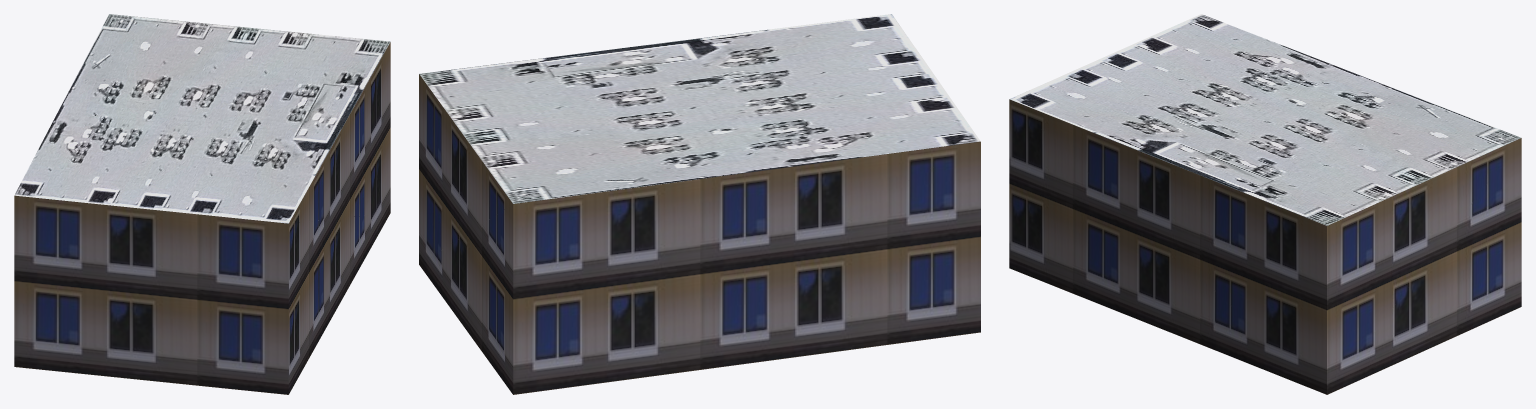
File: ResTex__4108.fbx
3 renders of one model, left to right at view 1: azimuth 30°, elevation 25°; view 2: azimuth 150°, elevation 25°; view 3: azimuth 270°, elevation 25°, orthographic. The views are drawn at different scales.
Parts seen in each view (by area): view 1: CityEngineMaterial_5_m, CityEngineMaterial_4_m; view 2: CityEngineMaterial_5_m, CityEngineMaterial_4_m; view 3: CityEngineMaterial_5_m, CityEngineMaterial_4_m.
Boxes of the visible parts, x1,y1,x2,y2 form: CityEngineMaterial_5_m: (14,42,390,394); CityEngineMaterial_4_m: (14,14,390,223); CityEngineMaterial_5_m: (419,74,980,394); CityEngineMaterial_4_m: (419,14,980,203); CityEngineMaterial_5_m: (1009,99,1521,394); CityEngineMaterial_4_m: (1010,14,1521,225).
Size of the model in its own units: 16.13 by 6 by 16.48.
2 materials, 2 textured.
